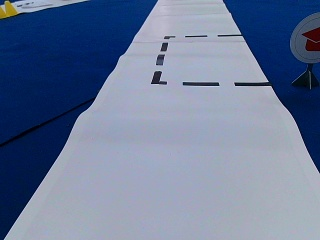school: (290, 12, 318, 62)
